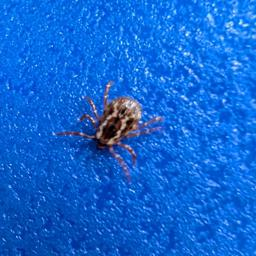Dermacentor variabilis: (74, 71, 171, 156)
